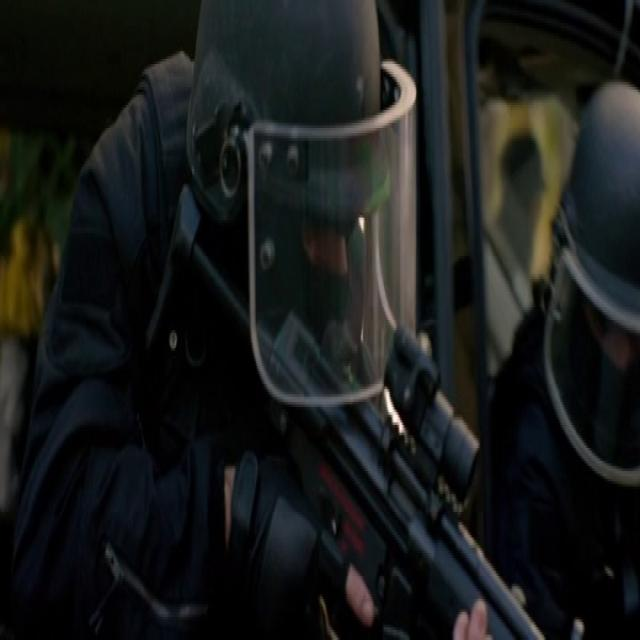rifle: (147, 189, 548, 640)
